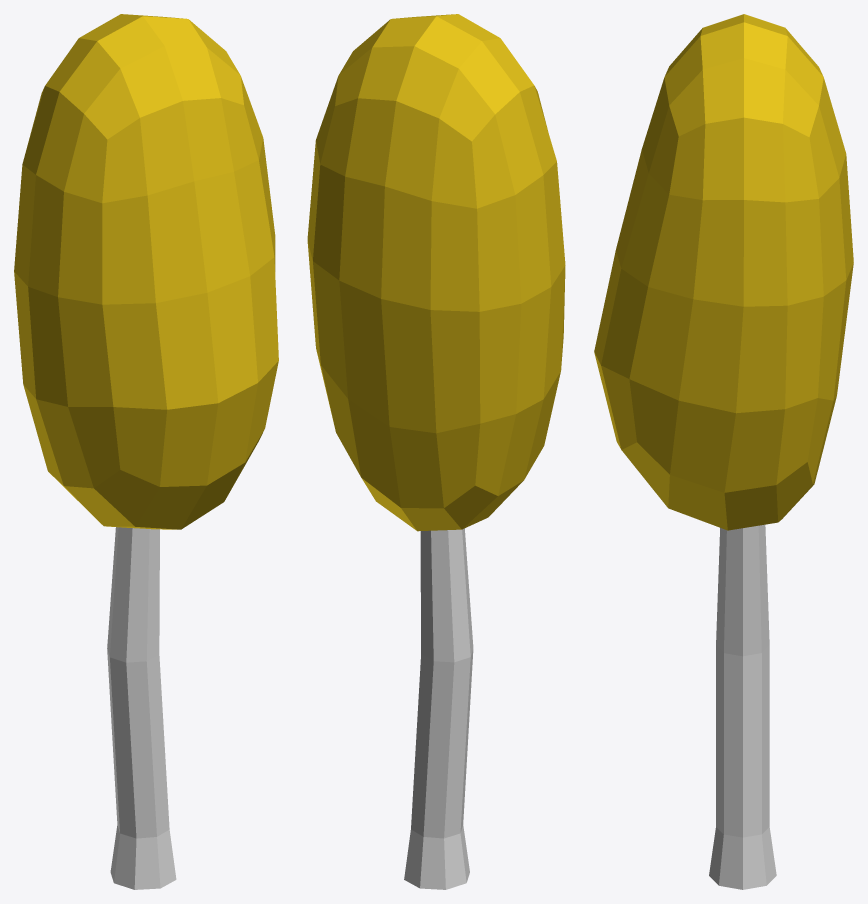
File: birch.fbx
3 renders of one model, left to right at view 1: azimuth 30°, elevation 25°; view 2: azimuth 150°, elevation 25°; view 3: azimuth 270°, elevation 25°, orthographic.
Parts seen in each view (by area): view 1: Cube, Cylinder; view 2: Cube, Cylinder; view 3: Cube, Cylinder.
Boxes of the visible parts, bbox=[...] form: Cube: bbox=[14, 14, 278, 529]; Cylinder: bbox=[107, 527, 176, 889]; Cube: bbox=[307, 14, 565, 531]; Cylinder: bbox=[404, 528, 473, 889]; Cube: bbox=[594, 14, 853, 530]; Cylinder: bbox=[709, 524, 776, 889].
Bounding box in the file's own units: 490 × 1753 × 483.
